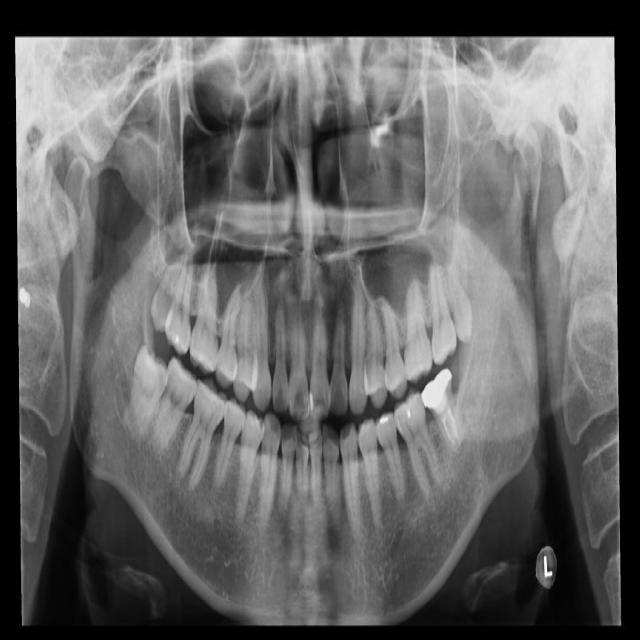3M ESPE Implant: (145, 252, 185, 335)
52: (386, 387, 436, 438), (163, 306, 194, 357), (371, 412, 403, 448), (308, 376, 332, 417)
73: (618, 612, 626, 616)
BioHorizons Implant: (426, 258, 459, 367)
BioLife Implant: (447, 262, 475, 343)
Blue Sky Bio Implant: (417, 368, 466, 458)
Caries: (163, 255, 196, 355)
Implant: (149, 356, 202, 460)
Keystone Dental Implant: (122, 345, 173, 442)
